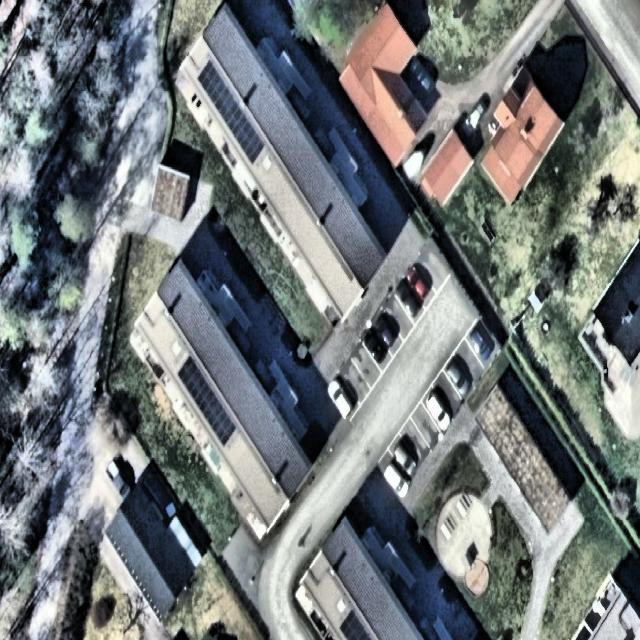roof_pv: (225, 90, 265, 168), (203, 374, 239, 453), (174, 352, 203, 426), (197, 54, 224, 130)
